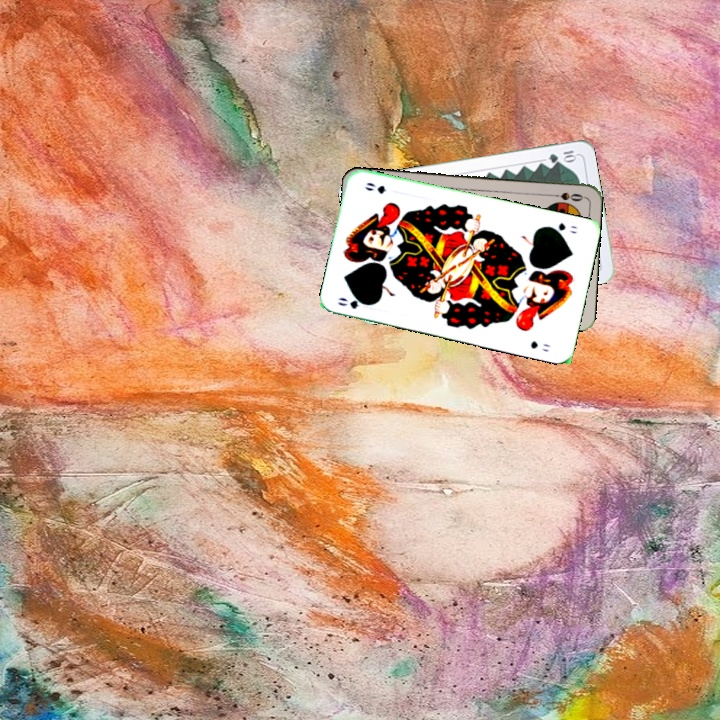G10: (545, 146, 579, 165)
GO: (334, 293, 375, 311), (543, 218, 580, 236)
SO: (545, 188, 586, 204)
